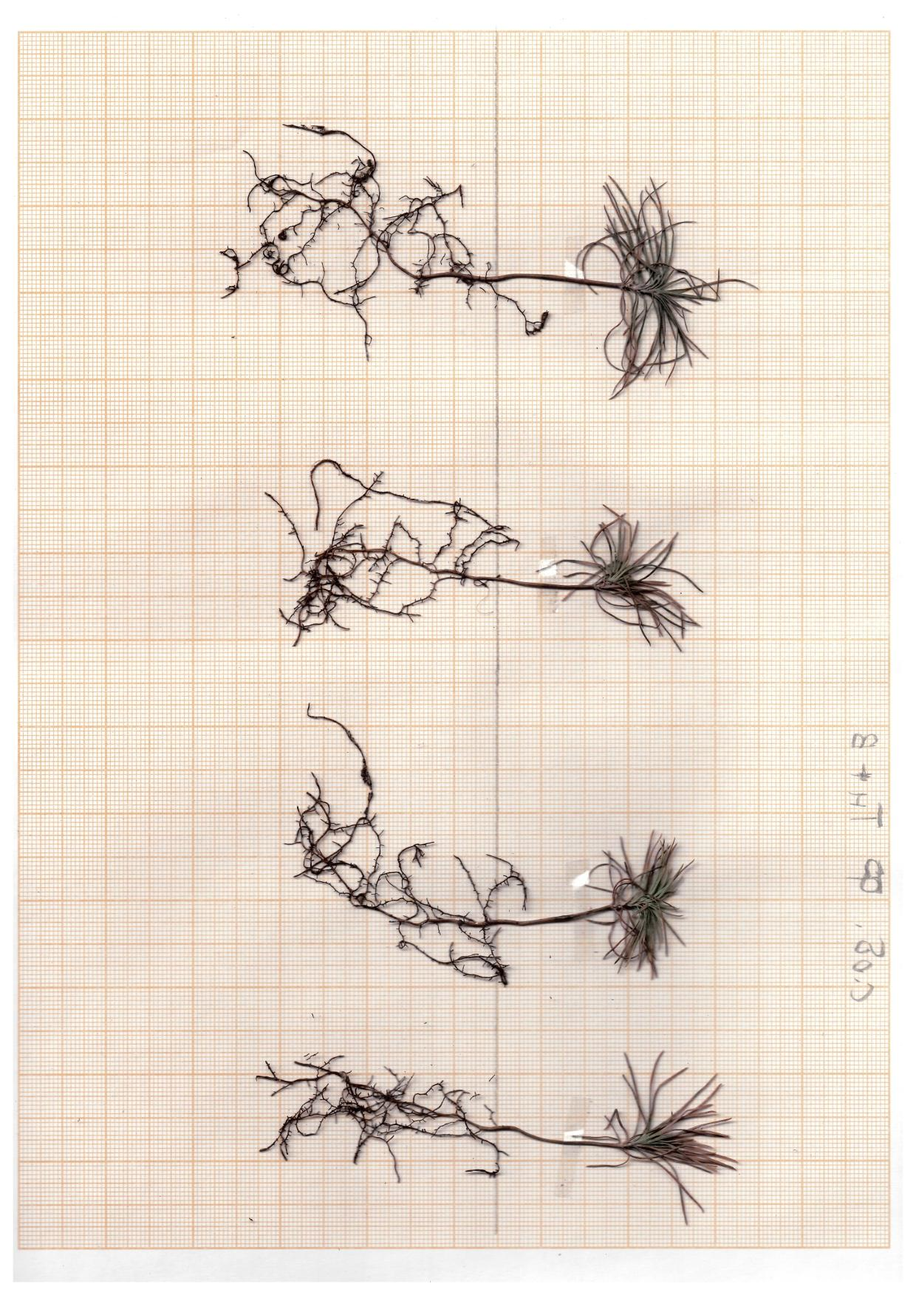root: (281, 708, 530, 987), (212, 123, 485, 365), (259, 451, 521, 652), (250, 1050, 505, 1185)
seeding: (589, 167, 762, 407), (599, 1053, 740, 1223), (570, 497, 709, 657), (597, 820, 703, 982)
stem: (494, 900, 615, 931), (496, 1123, 615, 1152), (472, 270, 621, 289), (479, 573, 596, 592)
